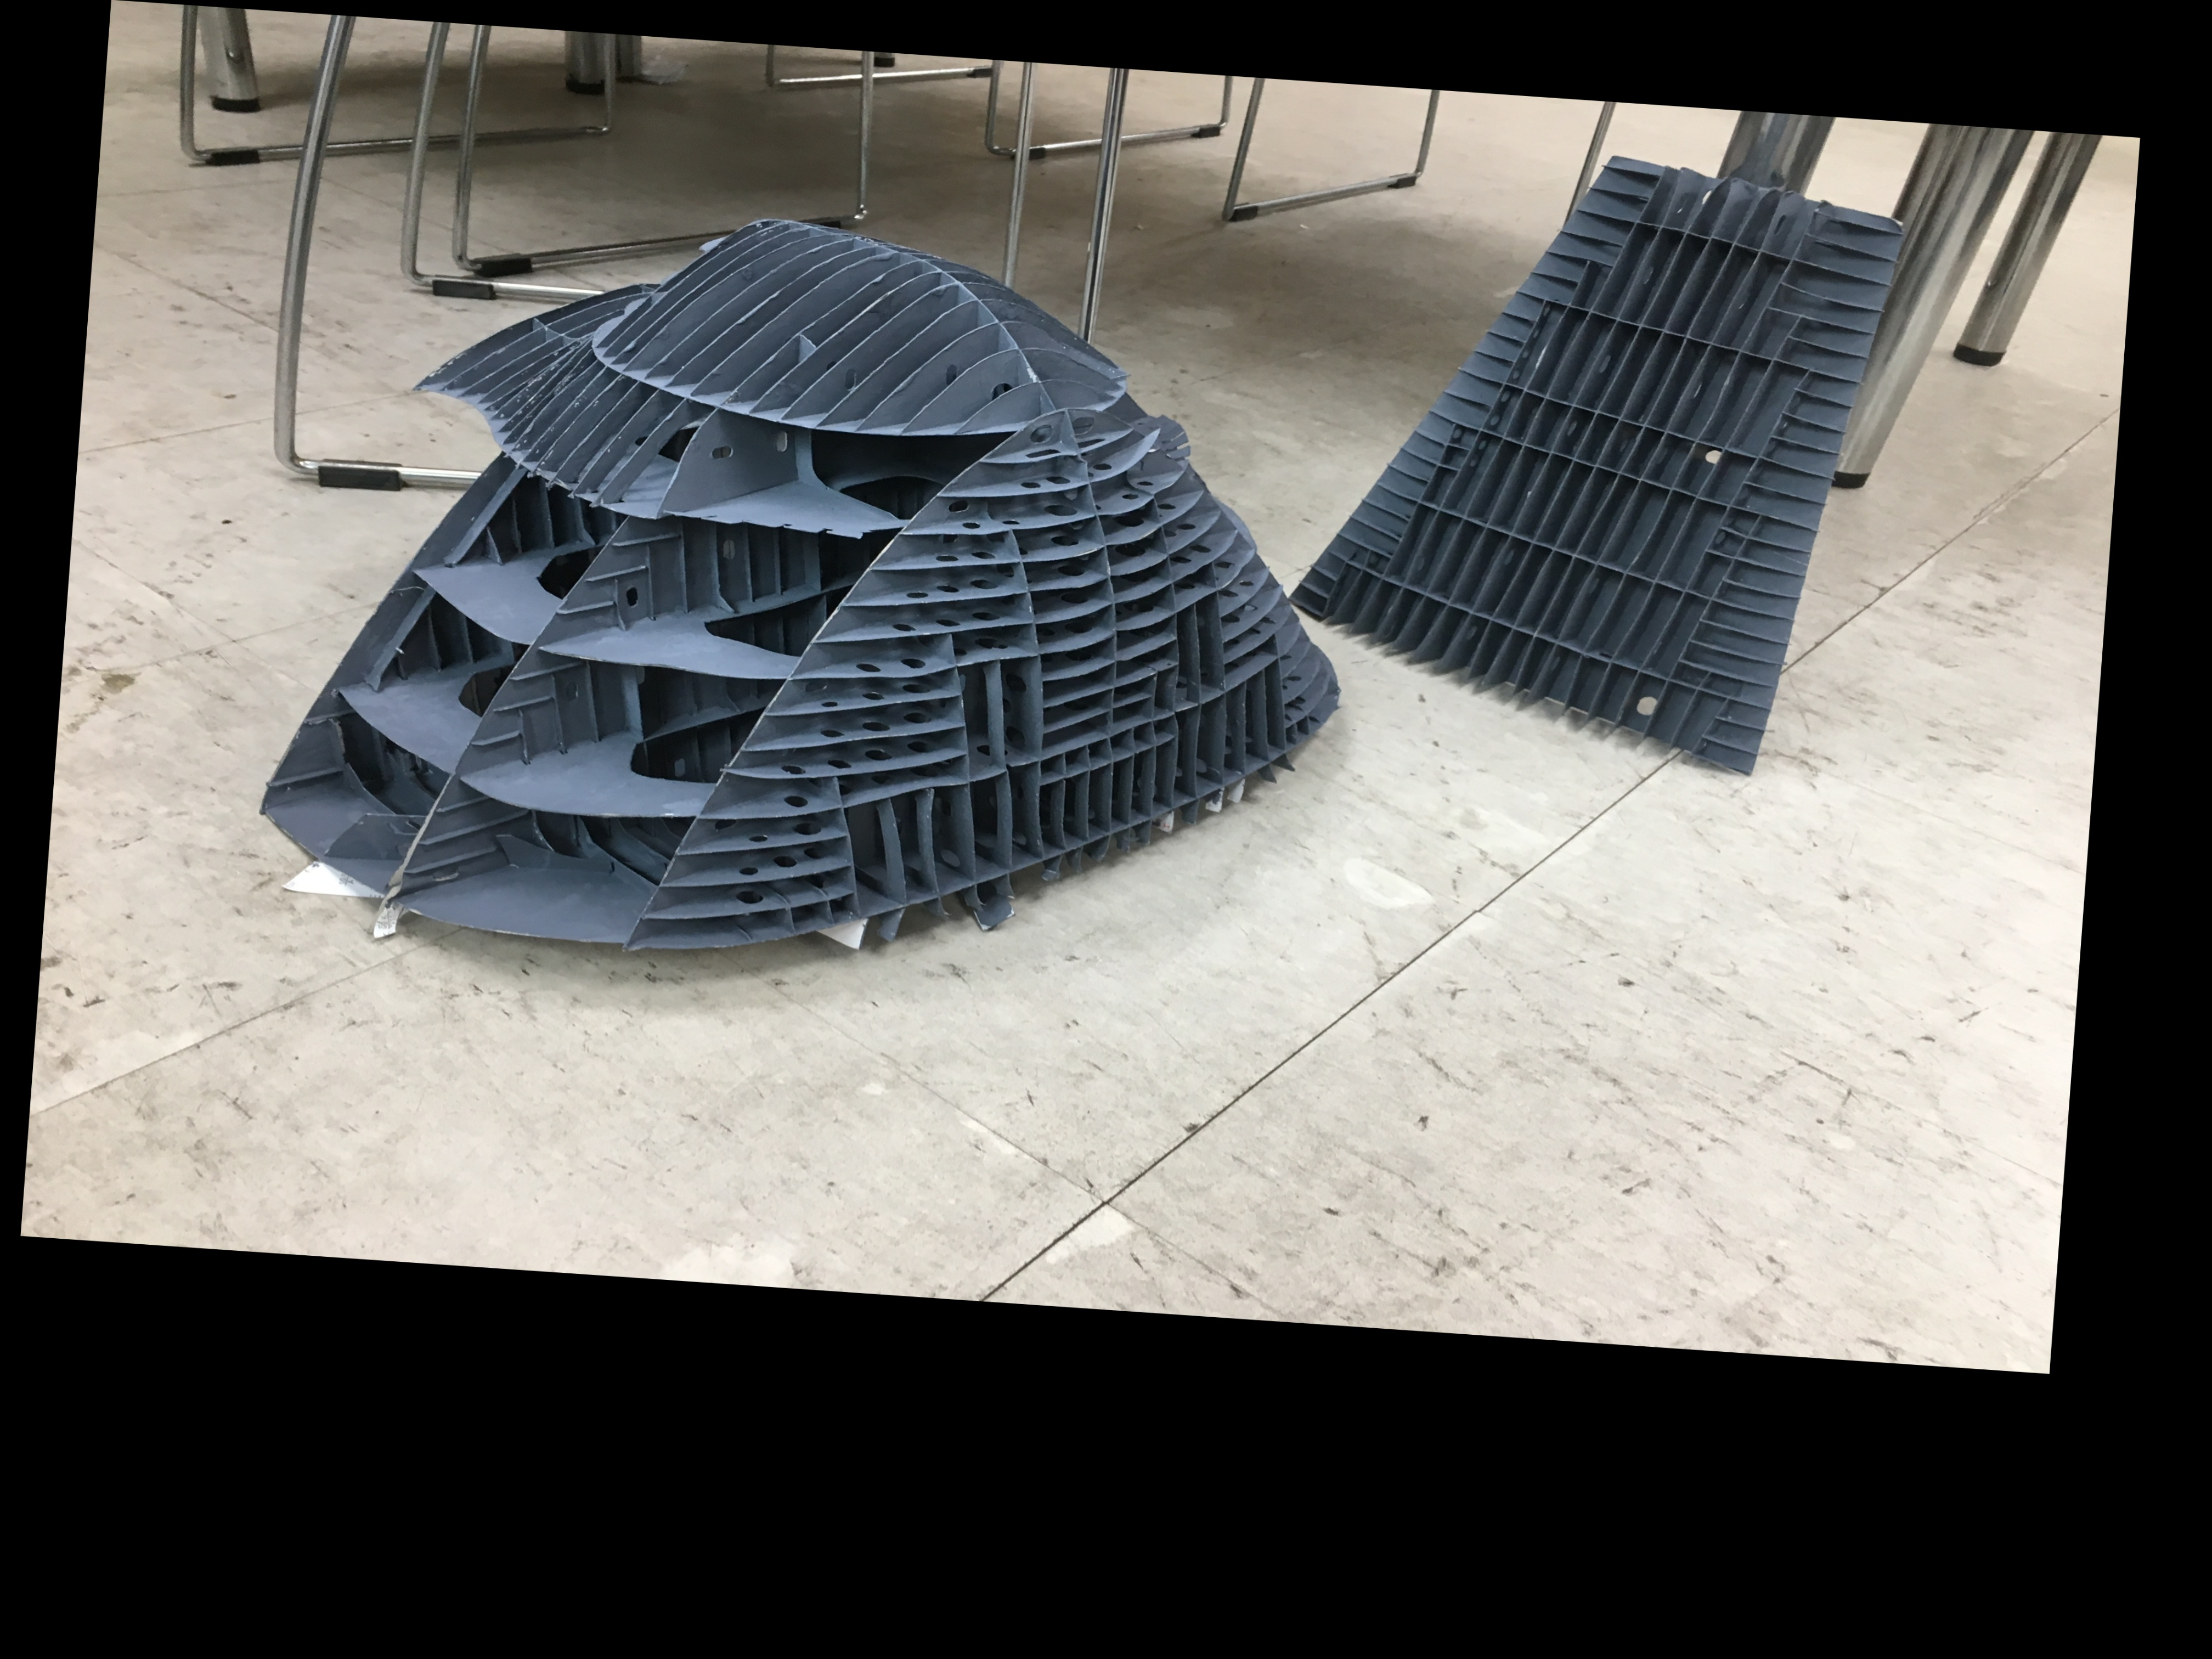B: (1247, 115, 1946, 791)
D: (207, 159, 1371, 1060)
